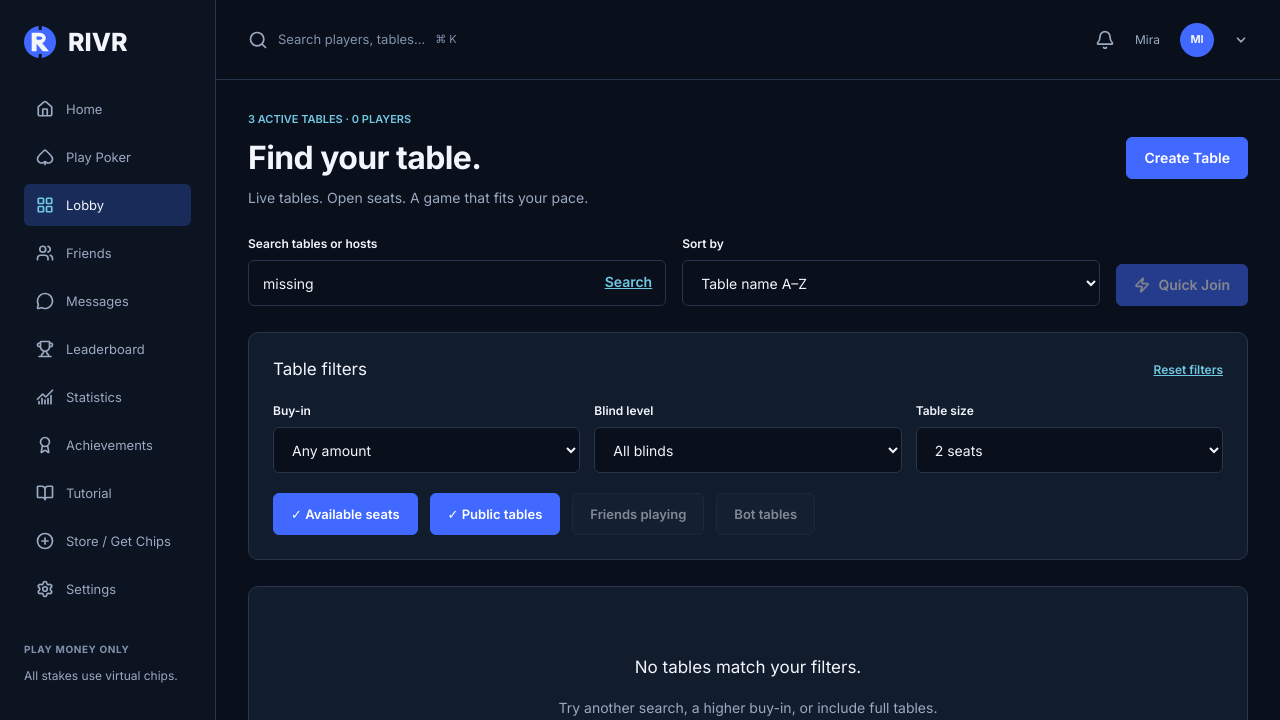
it: no-match message and reset clear search, filters, sorting, and page
Expected: the heading "No tables match your filters." is shown, [635, 655, 861, 680]
Step 1. Click the button "Reset filters" → (1188, 369), box [1154, 361, 1223, 378]
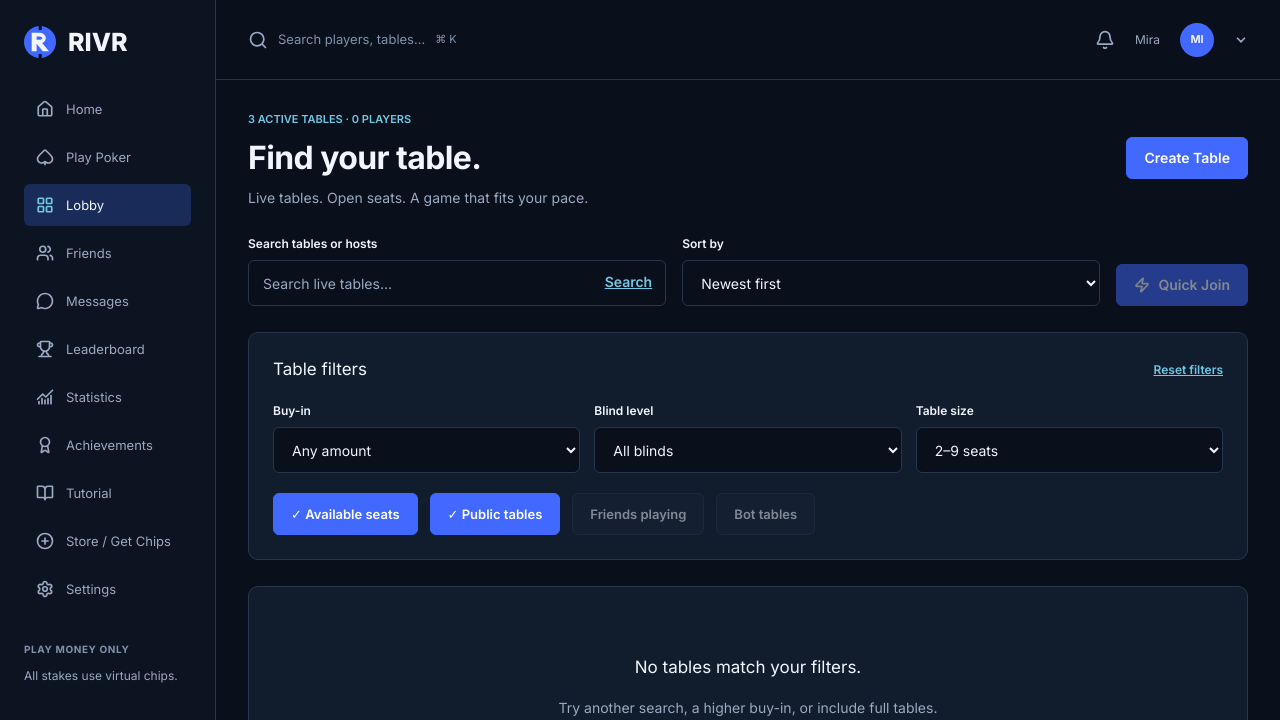
Expected: the search field is empty, [248, 260, 666, 306]
Expected: the dropdown labelled "Sort by" shows "Newest first", [682, 260, 1100, 306]
